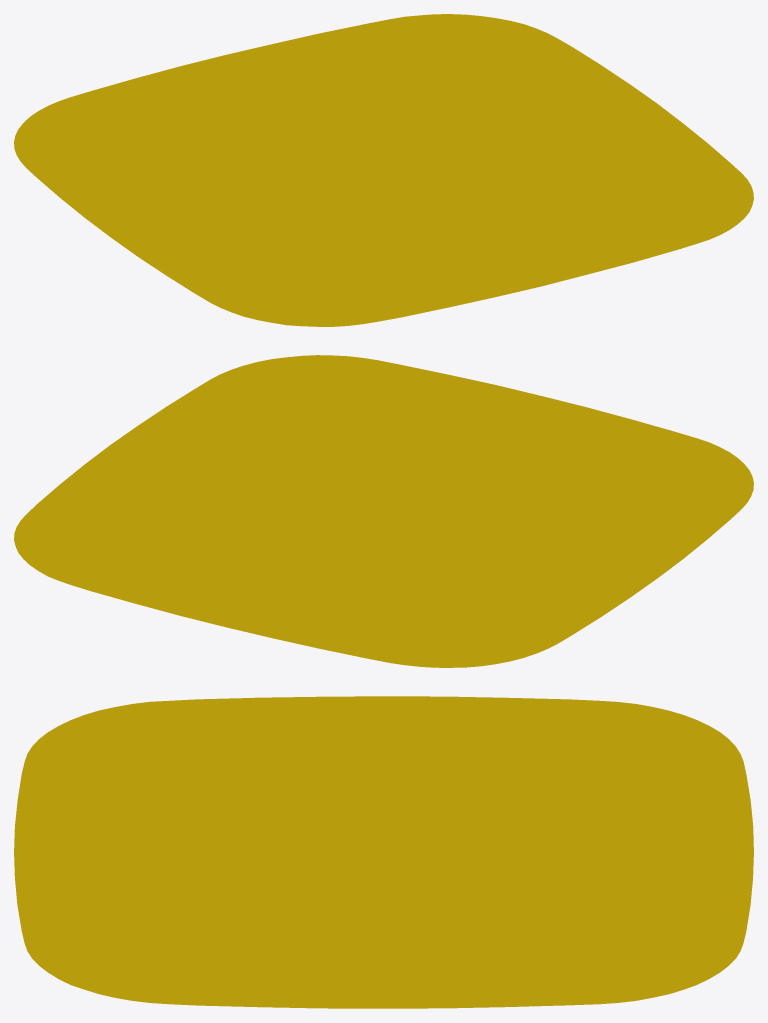
File: original_2.obj
3 renders of one model, top to bottom at view 1: azimuth 30°, elevation 25°; view 2: azimuth 150°, elevation 25°; view 3: azimuth 270°, elevation 25°, orthographic. The views are drawn at different scales.
Visible parts, largest first — view 1: group_1/ID13#ID13; view 2: group_1/ID13#ID13; view 3: group_1/ID13#ID13.
Boxes of the visible parts, x1,y1,x2,y2 form: group_1/ID13#ID13: [14, 14, 753, 326]; group_1/ID13#ID13: [14, 355, 753, 667]; group_1/ID13#ID13: [14, 696, 753, 1008].
Size of the model in its own units: 0.5217 by 0.000375 by 0.5221.
